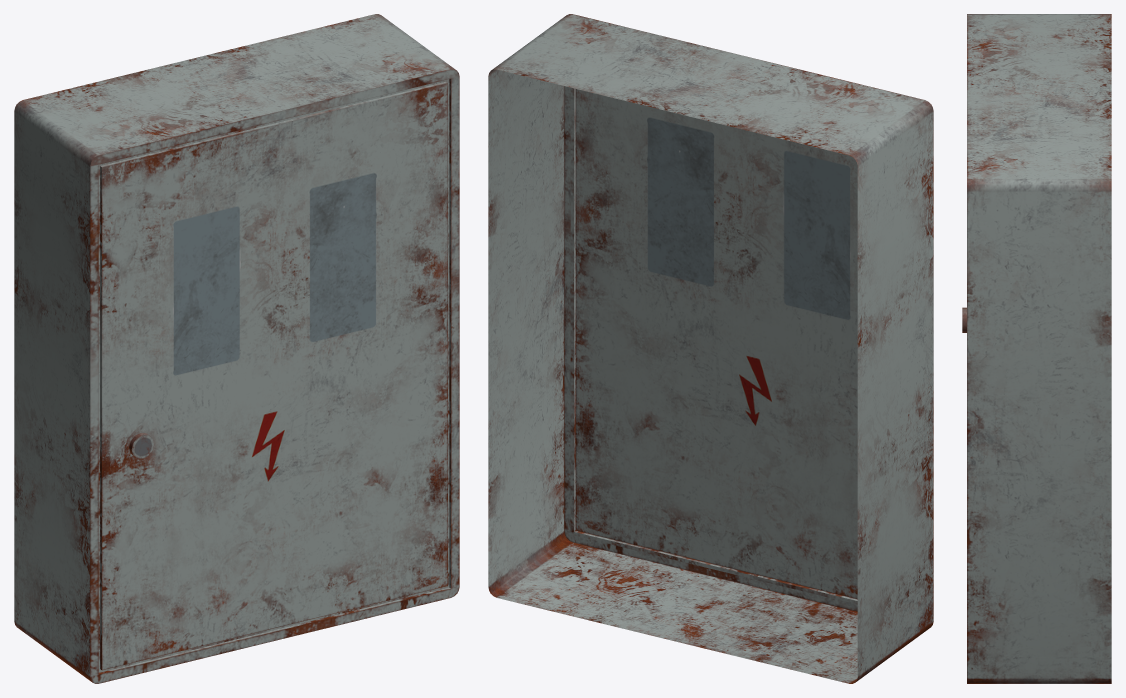
File: electrical_cabinet.glb
The picture shows the model from 3 angles, left to right: view 1: azimuth 30°, elevation 25°; view 2: azimuth 150°, elevation 25°; view 3: azimuth 270°, elevation 25°; orthographic projection. The views are drawn at different scales.
Parts seen in each view (by area): view 1: el_ormar_el_ormar_0; view 2: el_ormar_el_ormar_0; view 3: el_ormar_el_ormar_0.
Part boxes in pixels (box(x1,y1,x2,y2)): el_ormar_el_ormar_0: box(14, 14, 459, 683); el_ormar_el_ormar_0: box(488, 14, 933, 683); el_ormar_el_ormar_0: box(962, 14, 1111, 683).
Bounding box in the file's own units: 45 × 61.49 × 16.54.
1 material, 1 textured.
